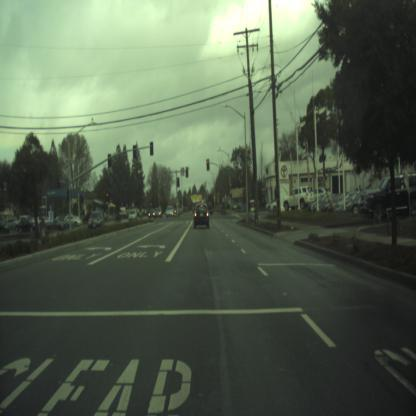Red: (206, 158, 210, 170), (230, 183, 231, 190)
RedLeft: (176, 176, 180, 186), (185, 166, 188, 176), (106, 192, 109, 201)
